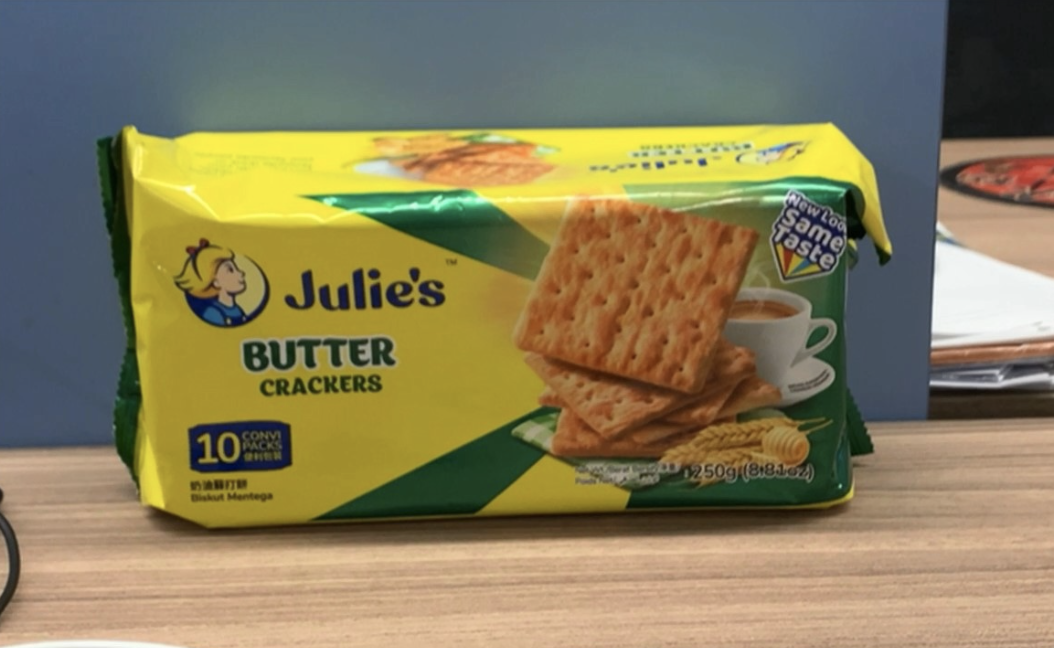crackers_200g-299g: (159, 199, 846, 500)
